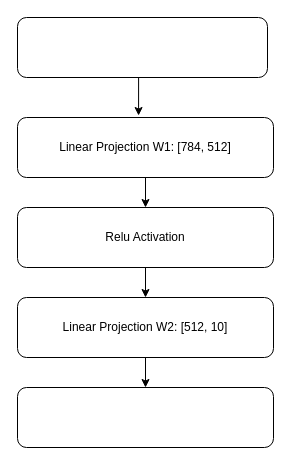
Image size: 291x465. Some labels were removed from this diagram. Each missing label, with the centre of its shape:
image: [Batch_Size, 784]: the point at 142,47
Softmax: the point at 145,417
